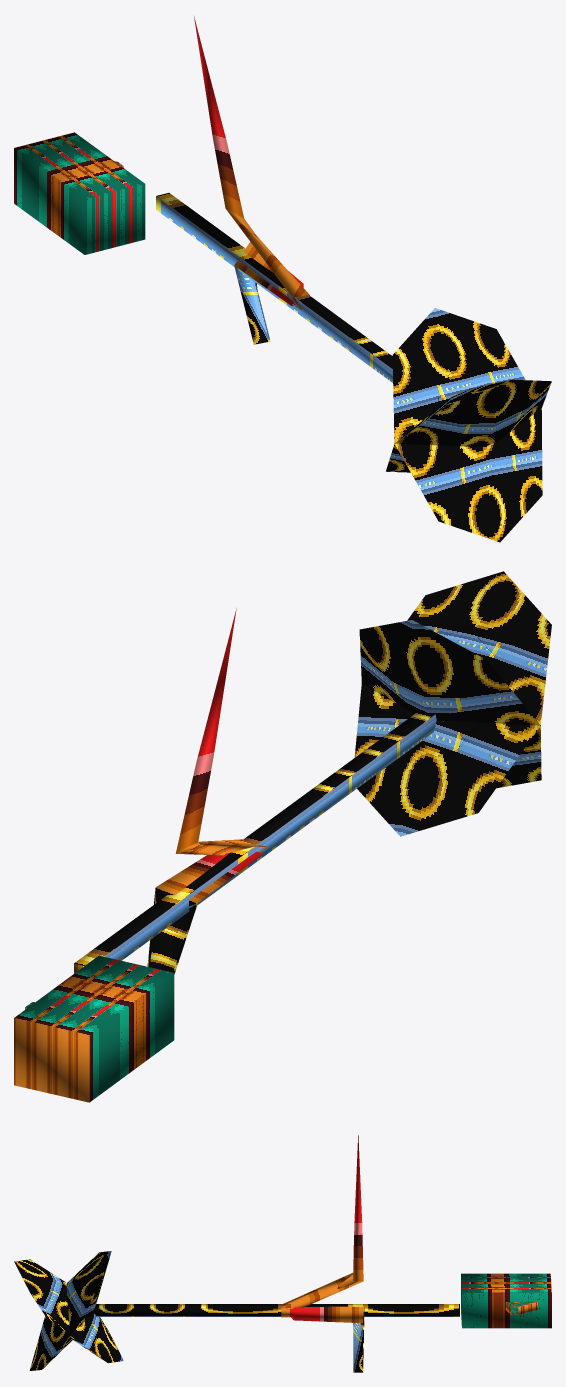
The model's file is 01_02_stick.gltf.
3 views of the same model, one above another, from view 1: azimuth 30°, elevation 25°; view 2: azimuth 150°, elevation 25°; view 3: azimuth 270°, elevation 25° (orthographic). The views are drawn at different scales.
Visible parts, largest first — view 1: 01_02_stick; view 2: 01_02_stick; view 3: 01_02_stick.
Part boxes in pixels (<box>): 01_02_stick: <box>14,16,551,542</box>; 01_02_stick: <box>14,571,551,1102</box>; 01_02_stick: <box>14,1135,551,1372</box>.
Size of the model in its own units: 0.2847 by 0.6322 by 1.37.
2 materials, 2 textured.
